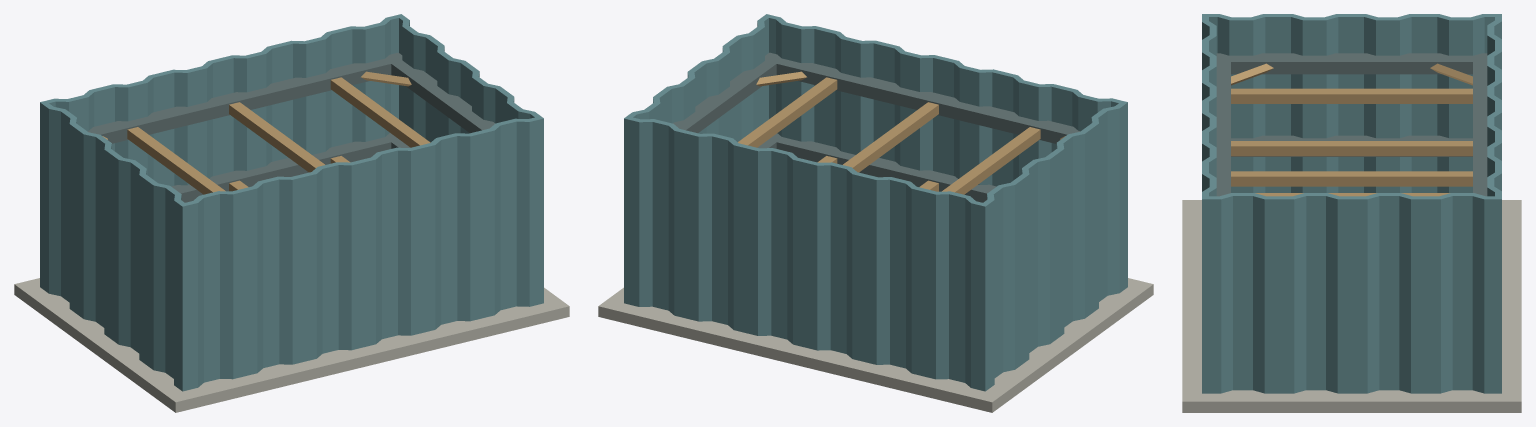
3 renders of one model, left to right at view 1: azimuth 30°, elevation 25°; view 2: azimuth 150°, elevation 25°; view 3: azimuth 270°, elevation 25°, orthographic. The views are drawn at different scales.
Visible parts, largest first — view 1: WholeContinuousClosedCorrugatedPerimeter, WholeDryEnclosureFloorAndGroundSole, WholeClosedInternalWalerFrame1, WholeClosedInternalWalerFrame0, WholeFullWidthCrossStrut1_2, WholeFullWidthCrossStrut1_1, WholeFullWidthCrossStrut1_0; view 2: WholeContinuousClosedCorrugatedPerimeter, WholeDryEnclosureFloorAndGroundSole, WholeClosedInternalWalerFrame1, WholeClosedInternalWalerFrame0, WholeFullWidthCrossStrut1_2, WholeFullWidthCrossStrut1_1, WholeFullWidthCrossStrut1_0; view 3: WholeContinuousClosedCorrugatedPerimeter, WholeDryEnclosureFloorAndGroundSole, WholeClosedInternalWalerFrame1, WholeFullWidthCrossStrut0_0, WholeFullWidthCrossStrut1_0, WholeFullWidthCrossStrut1_1, WholeClosedInternalWalerFrame0, WholeFullWidthCrossStrut1_2, WholeUpperCornerKnee0_0, WholeUpperCornerKnee0_1.
Boxes of the visible parts, x1,y1,x2,y2 form: WholeContinuousClosedCorrugatedPerimeter: (40,14,543,391); WholeDryEnclosureFloorAndGroundSole: (14,278,569,412); WholeClosedInternalWalerFrame1: (87,52,494,143); WholeClosedInternalWalerFrame0: (171,133,410,202); WholeFullWidthCrossStrut1_2: (330,77,430,147); WholeFullWidthCrossStrut1_1: (229,102,324,172); WholeFullWidthCrossStrut1_0: (127,127,225,194); WholeContinuousClosedCorrugatedPerimeter: (624,14,1127,391); WholeDryEnclosureFloorAndGroundSole: (598,278,1153,412); WholeClosedInternalWalerFrame1: (673,52,1080,143); WholeClosedInternalWalerFrame0: (757,133,996,202); WholeFullWidthCrossStrut1_2: (738,77,837,147); WholeFullWidthCrossStrut1_1: (843,102,938,172); WholeFullWidthCrossStrut1_0: (942,127,1040,194); WholeContinuousClosedCorrugatedPerimeter: (1202,14,1501,393); WholeDryEnclosureFloorAndGroundSole: (1182,200,1521,412); WholeClosedInternalWalerFrame1: (1216,53,1487,196); WholeFullWidthCrossStrut0_0: (1231,171,1472,186); WholeFullWidthCrossStrut1_0: (1231,88,1472,103); WholeFullWidthCrossStrut1_1: (1231,141,1472,156); WholeClosedInternalWalerFrame0: (1231,135,1472,156); WholeFullWidthCrossStrut1_2: (1255,193,1449,196); WholeUpperCornerKnee0_0: (1231,63,1273,85); WholeUpperCornerKnee0_1: (1430,63,1472,85).
Size of the model in its own units: 6.2 by 2.94 by 4.4.
